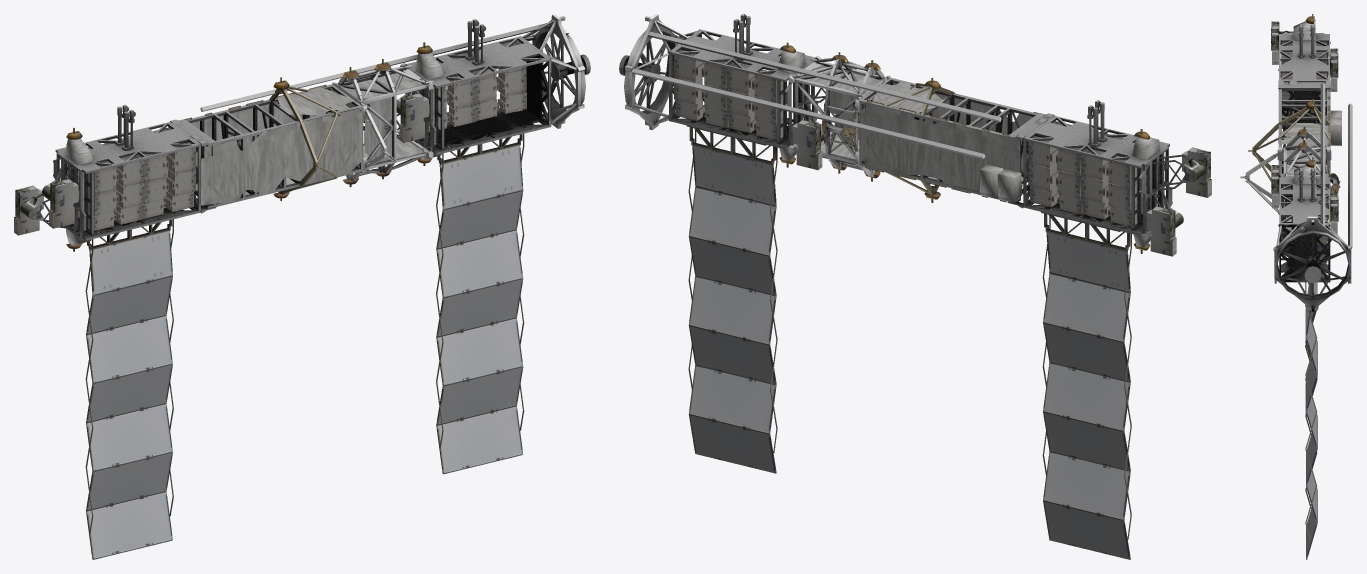
The model's file is s4_truss_23_minus_all_batteries.dae.
The picture shows the model from 3 angles, left to right: view 1: azimuth 30°, elevation 25°; view 2: azimuth 150°, elevation 25°; view 3: azimuth 270°, elevation 25°; orthographic projection. The views are drawn at different scales.
Visible parts, largest first — view 1: 32 S6 Truss, 23 S4 Truss, 24 S5 Truss; view 2: 32 S6 Truss, 23 S4 Truss, 24 S5 Truss; view 3: 23 S4 Truss, 32 S6 Truss, 24 S5 Truss.
Part boxes in pixels (x1=…): 32 S6 Truss: x1=14, y1=77, x2=363, y2=559; 23 S4 Truss: x1=200, y1=14, x2=590, y2=474; 24 S5 Truss: x1=332, y1=59, x2=433, y2=187; 32 S6 Truss: x1=859, y1=78, x2=1211, y2=559; 23 S4 Truss: x1=619, y1=14, x2=1001, y2=473; 24 S5 Truss: x1=788, y1=52, x2=890, y2=181; 23 S4 Truss: x1=1271, y1=83, x2=1352, y2=559; 32 S6 Truss: x1=1248, y1=14, x2=1341, y2=415; 24 S5 Truss: x1=1240, y1=126, x2=1340, y2=233.
Size of the model in its own units: 24.52 by 5.1 by 18.61.
6 materials, 6 textured.
